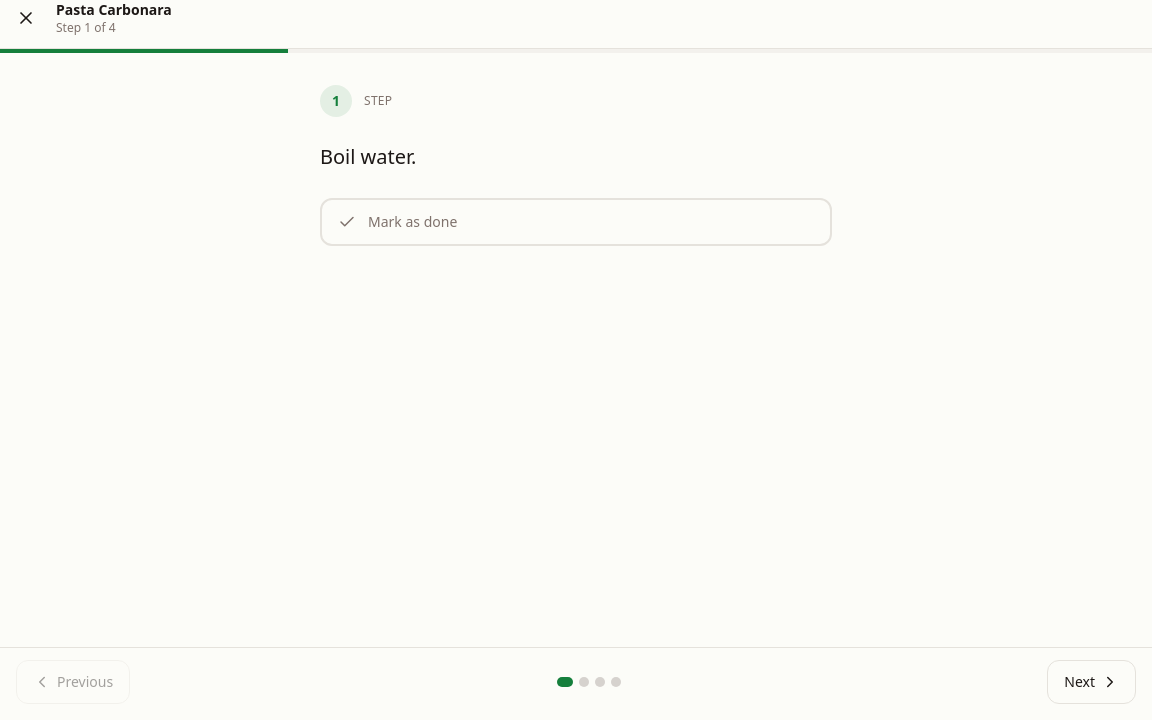
Test: CookModePage — navigation › advances to step 2 when Next is clicked
The width and height of the screenshot is (1152, 720).
Expected: the text "Pasta Carbonara" is shown, [56,0,172,19]
Click the button with aria-label "Next step".
click(1092, 682)  # box [1047,660,1136,704]
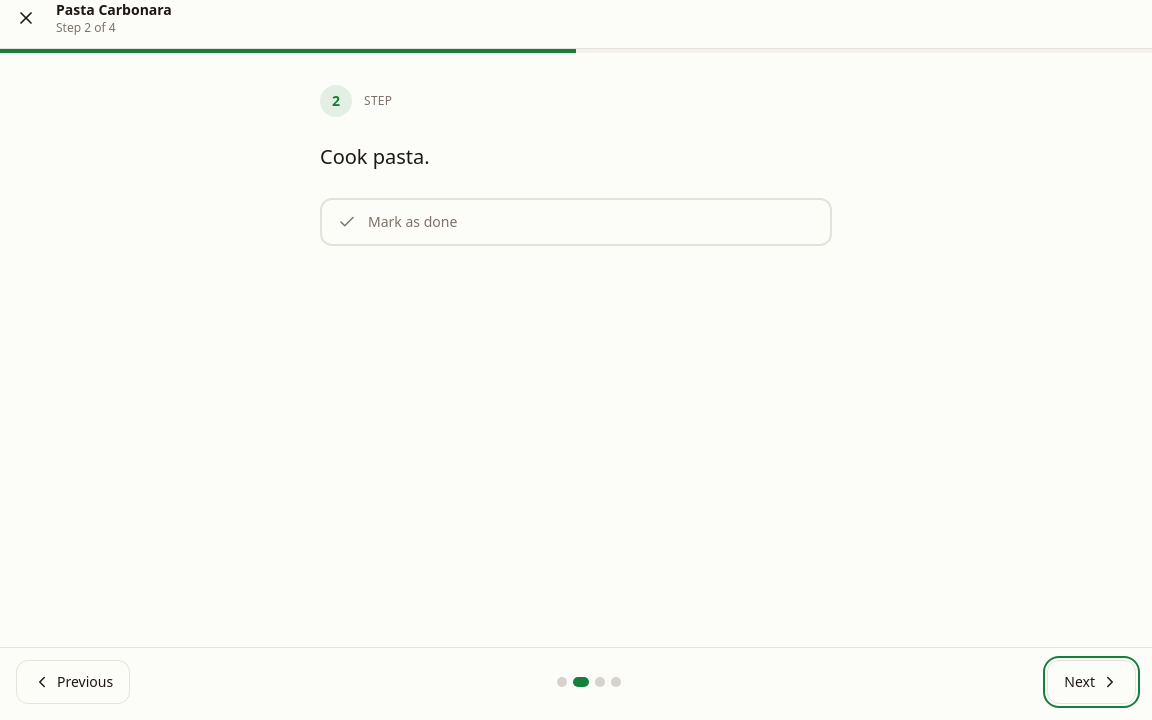
Result: the text "Step 2 of 4" is shown at [56,19,116,36]
Result: the text "Cook pasta." is shown at [320,143,430,170]
